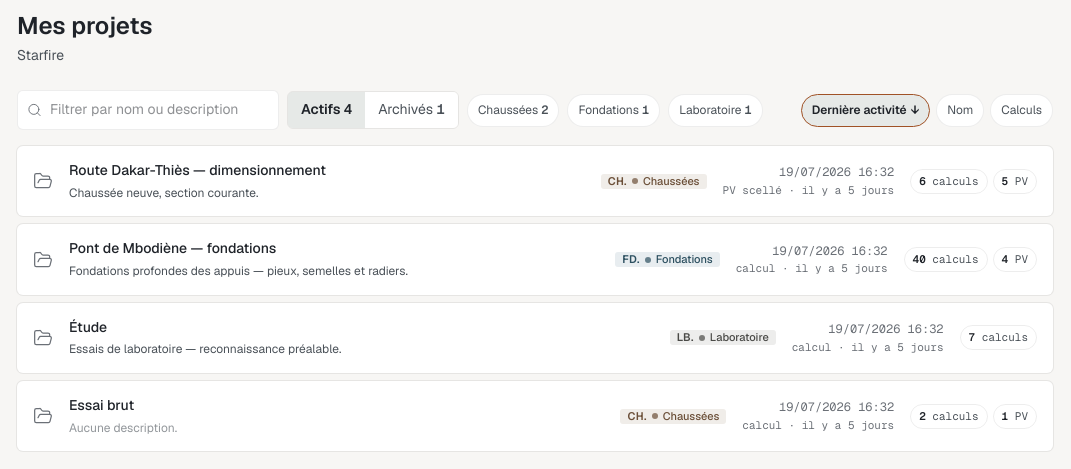
Test case: Liste des projets — affordances d’écriture selon le rôle (confort, pas sécurité) › #1 GIVEN un membre VIEWER — WHEN la liste s’affiche — THEN aucun bouton d’écriture n’est rendu
Click the button "Archivés 1": click(412, 110) [365, 92, 458, 128]
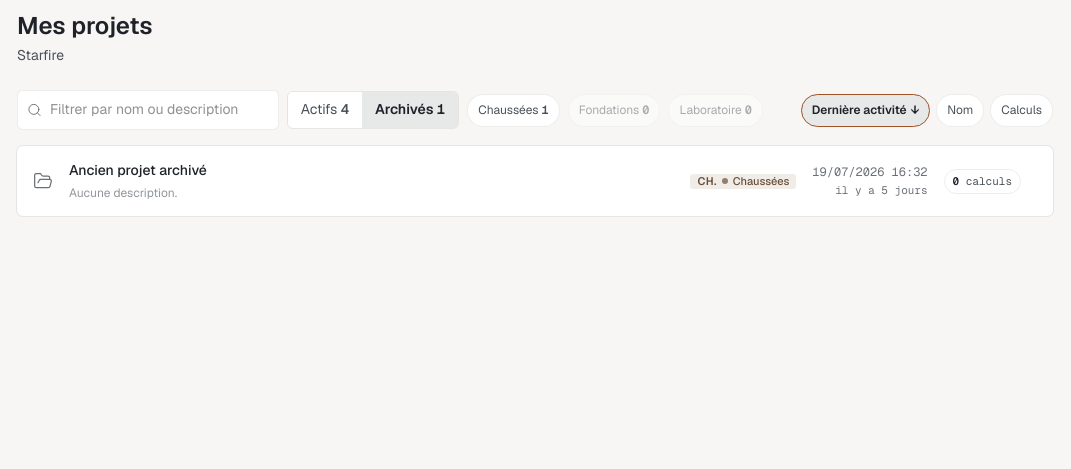
Check: the text "Ancien projet archivé" is shown, box [69, 160, 207, 182]
